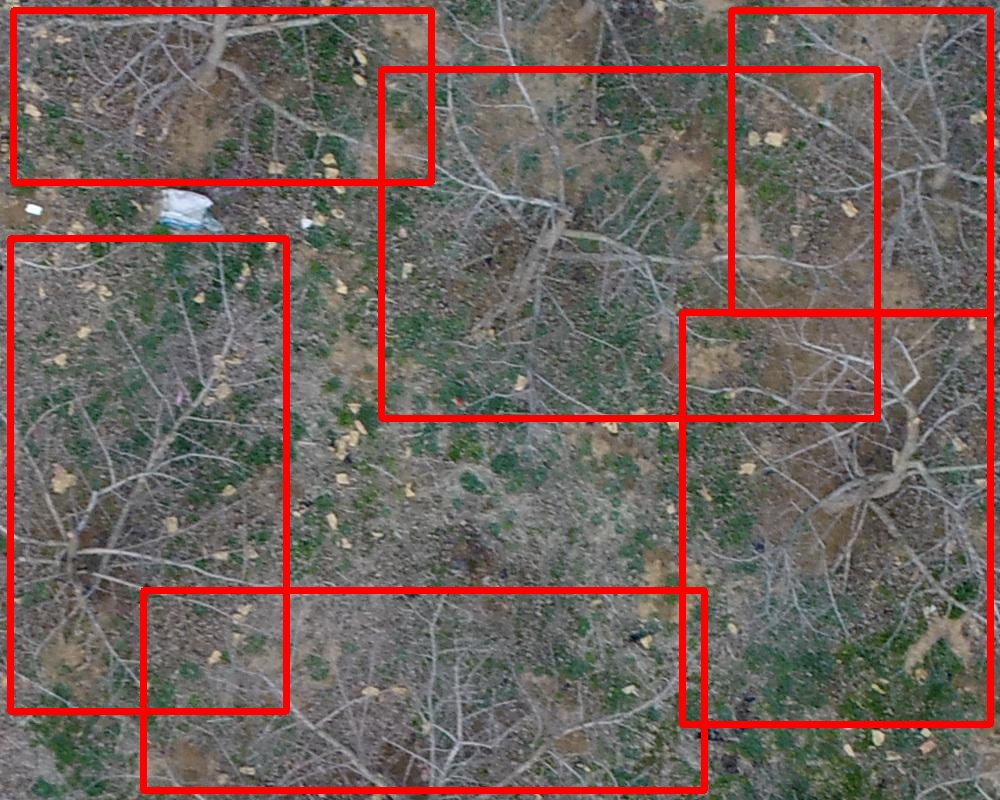apple: (381, 69, 877, 418), (10, 238, 286, 711), (682, 312, 990, 724), (143, 590, 704, 790), (731, 10, 990, 313), (13, 10, 431, 182)
